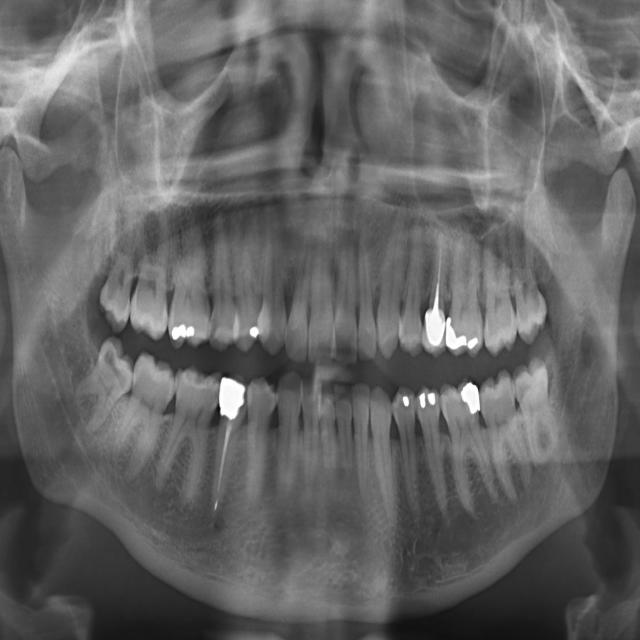AmalgamRestoration: (218, 376, 247, 420), (447, 318, 482, 351), (460, 383, 480, 418), (168, 321, 188, 343), (400, 390, 411, 409), (418, 389, 426, 415), (249, 322, 258, 340), (187, 325, 196, 339), (428, 389, 434, 409)
Crown: (425, 314, 447, 344)
DentalCaries: (104, 344, 119, 376), (210, 308, 221, 344), (242, 390, 252, 419), (212, 382, 220, 410)
RootCanalTreatment: (208, 422, 236, 526), (433, 232, 453, 288)
post: (432, 294, 444, 315)
